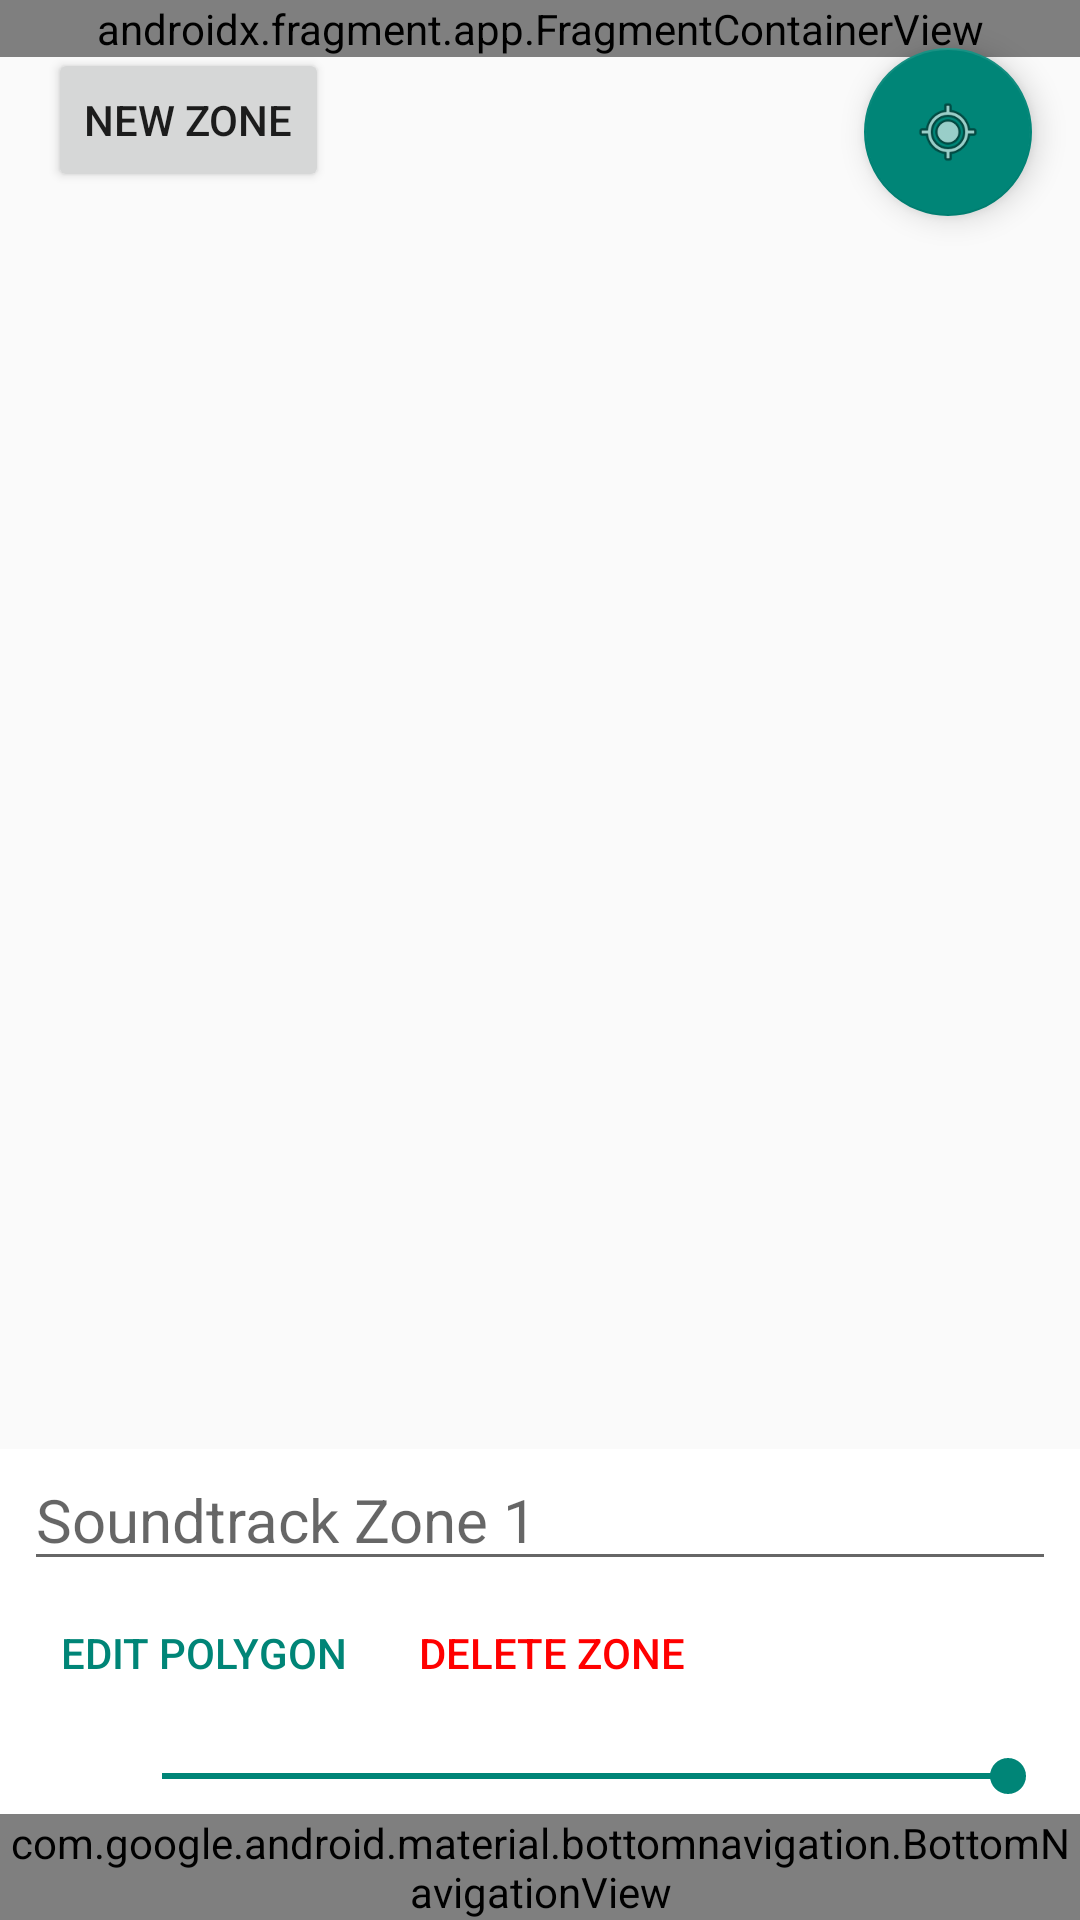

Icon bounding boxes for this 1080×1920 phone screenshot, format (x1, y1, x2, y2):
mylocation: (864, 48, 1032, 216)
